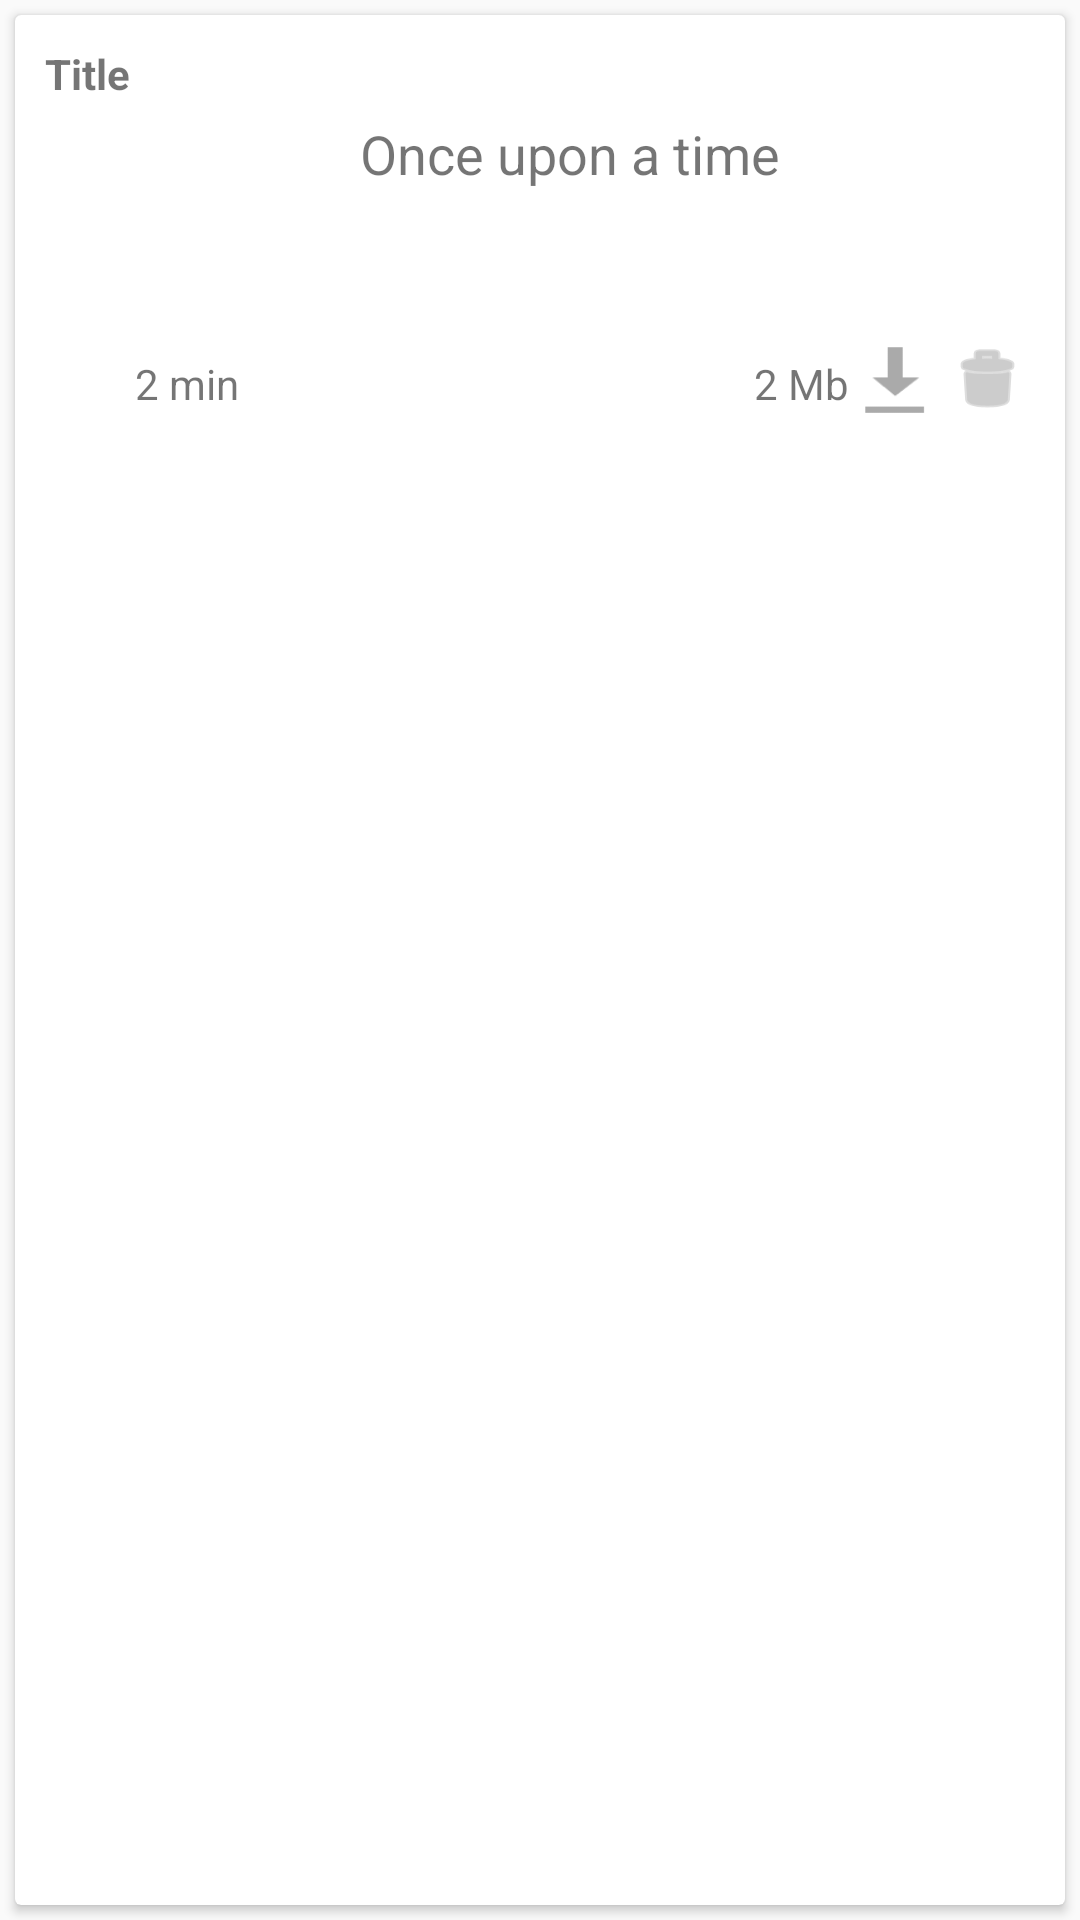

Named icons in this screenshot (1080×1920) and their bounding boxes, (x1, y1, x2, y2):
download: (865, 347, 924, 413)
